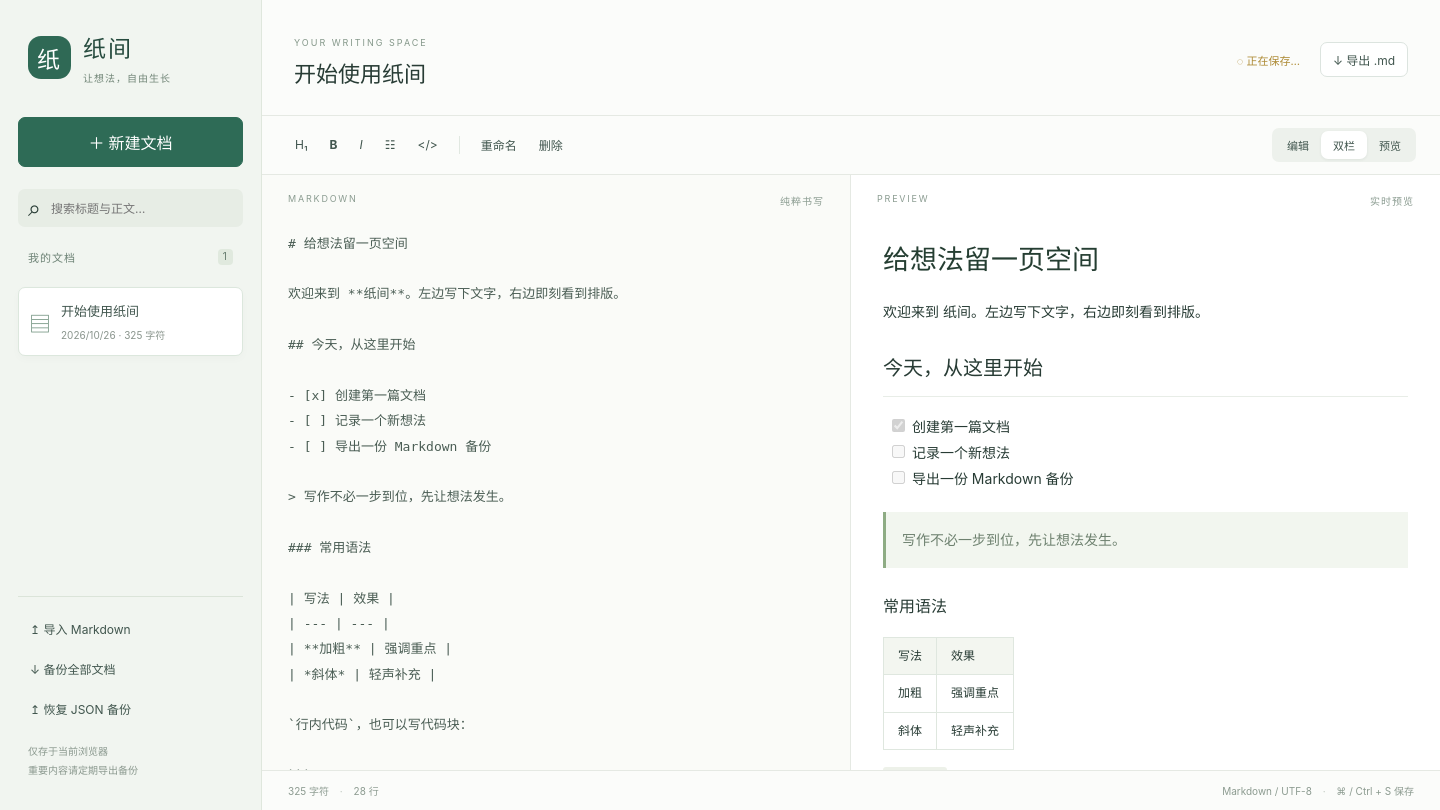
保存失败提示用户，文字仍留在编辑区
Replace the text in the text box named "Markdown 正文" with "重要内容": (556, 495) [262,221,850,770]
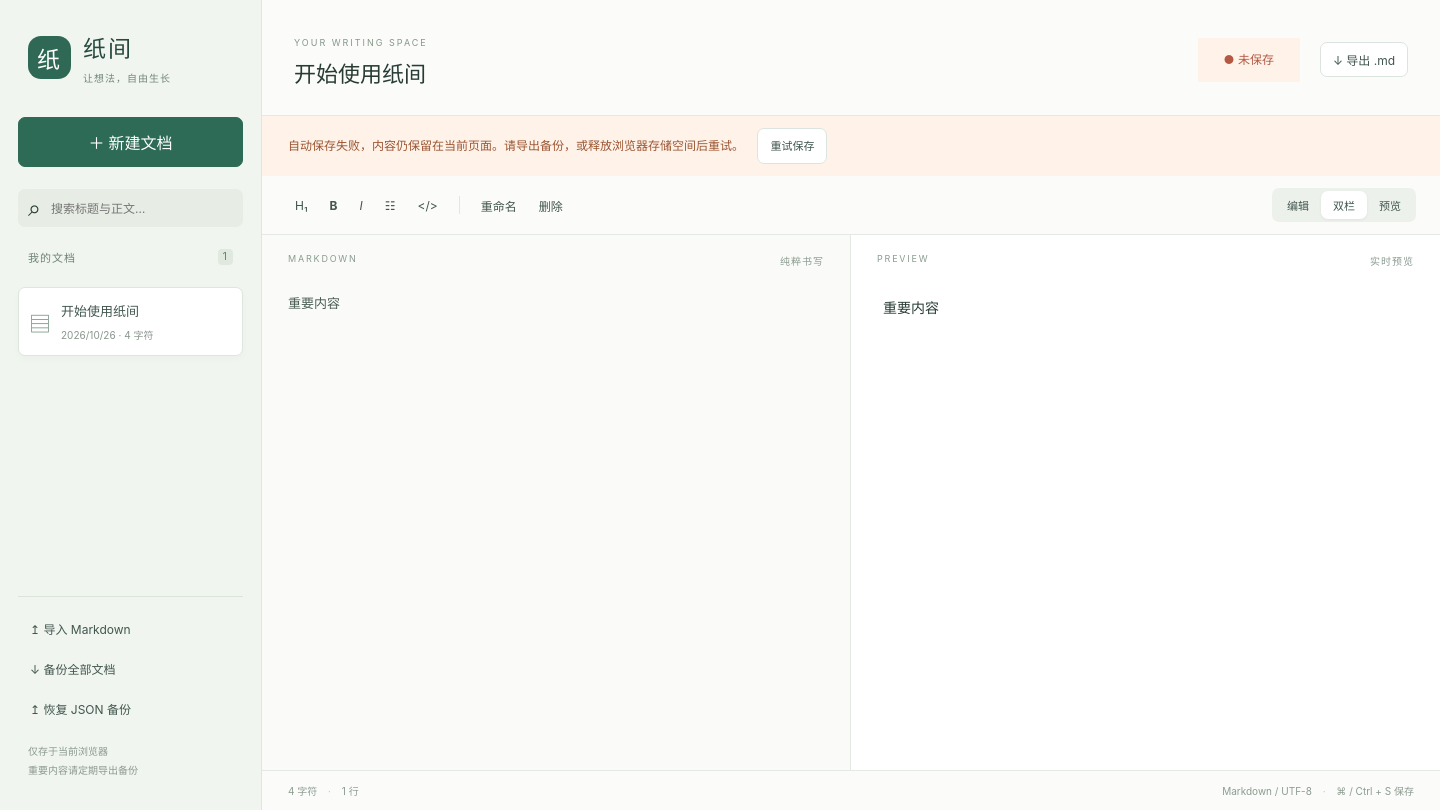
Now the message shows "自动保存失败", box [288,138,744,153]
